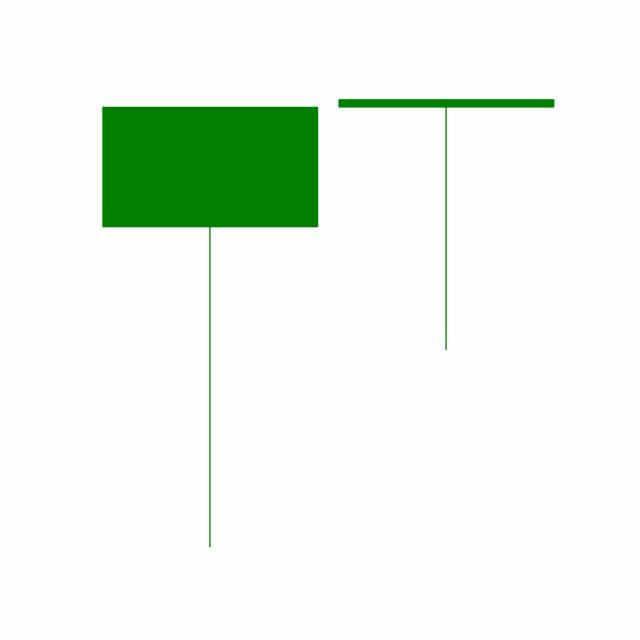Hanging Man: (328, 97, 566, 354)
